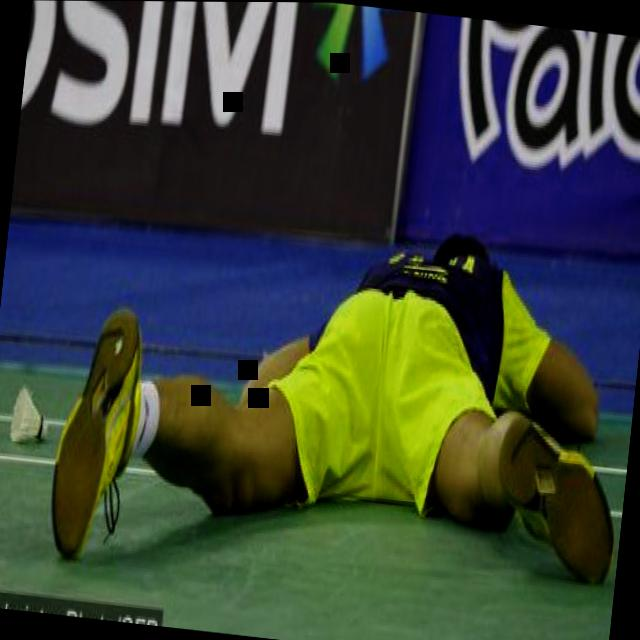Fall-Detected: (34, 112, 640, 622)
